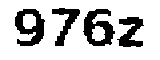6: (83, 7, 115, 48)
7: (49, 7, 81, 49)
9: (7, 5, 48, 52)
z: (115, 15, 149, 51)
